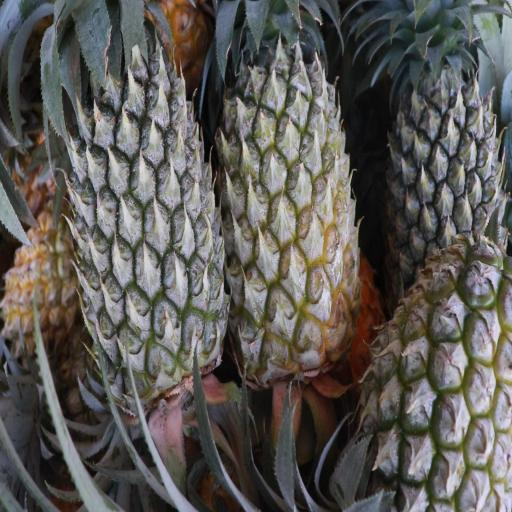------------------------------: (218, 12, 358, 366), (369, 243, 512, 512)
Pineapple - v8 v1: (0, 204, 80, 355)
